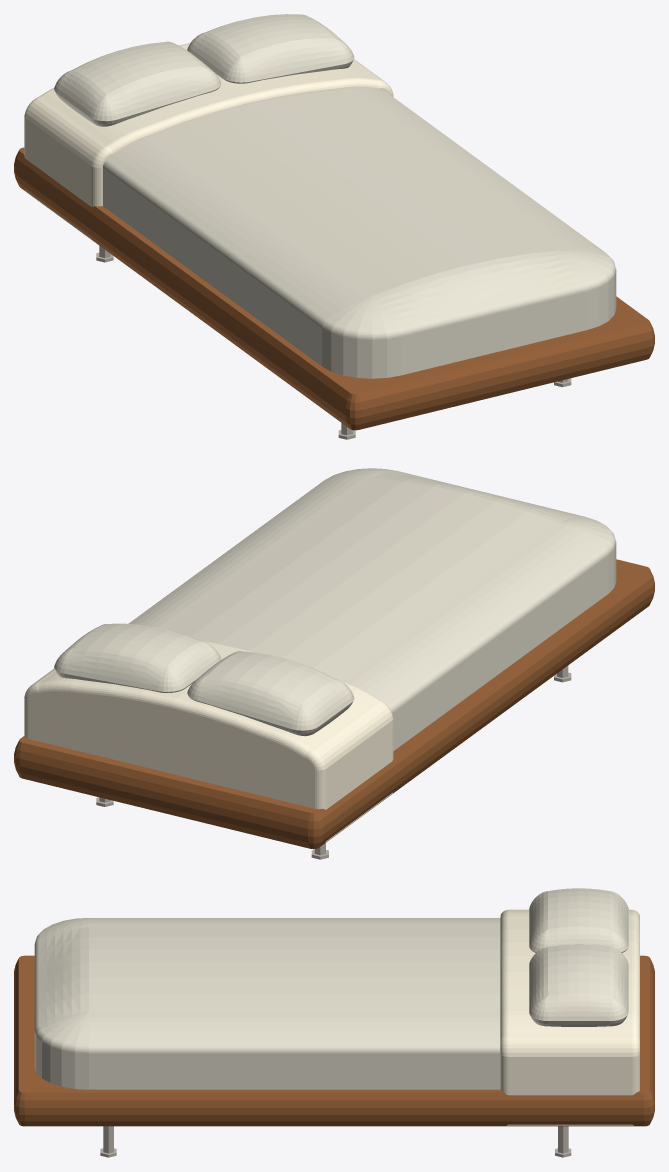
Rendered from Bed.glb.
3 renders of one model, top to bottom at view 1: azimuth 30°, elevation 25°; view 2: azimuth 150°, elevation 25°; view 3: azimuth 270°, elevation 25°, orthographic. The views are drawn at different scales.
Parts seen in each view (by area): view 1: Node; view 2: Node; view 3: Node.
Part boxes in pixels (x1,y1,x2,y2): Node: (14,14,654,439); Node: (14,468,654,859); Node: (14,888,654,1157).
Bounding box in the file's own units: 42.92 × 24.43 × 82.49.
